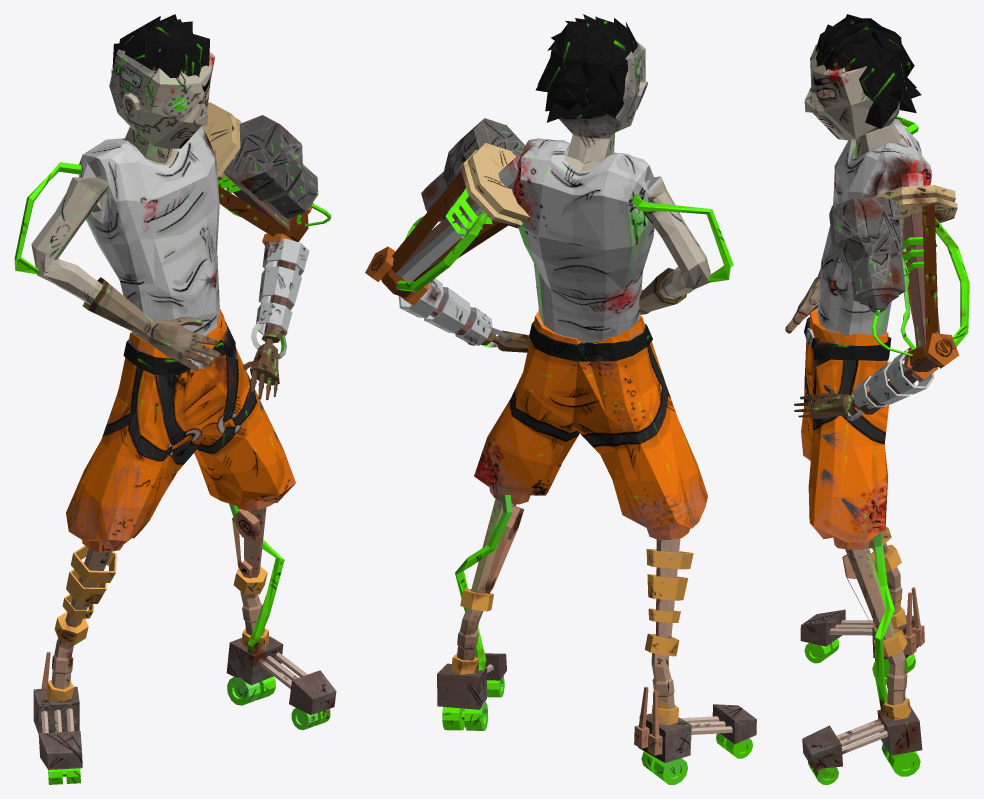
Rendered from CyborgFINALAnimation_000062.obj.
3 views of the same model, side by side, from view 1: azimuth 30°, elevation 25°; view 2: azimuth 150°, elevation 25°; view 3: azimuth 270°, elevation 25° (orthographic). The views are drawn at different scales.
Visible parts, largest first — view 1: CyborgMesh_Cube.002; view 2: CyborgMesh_Cube.002; view 3: CyborgMesh_Cube.002.
Boxes of the visible parts, x1,y1,x2,y2 form: CyborgMesh_Cube.002: [14, 14, 336, 784]; CyborgMesh_Cube.002: [365, 14, 756, 784]; CyborgMesh_Cube.002: [785, 14, 969, 784].
Bounding box in the file's own units: 4.56 × 9.6 × 2.29.
